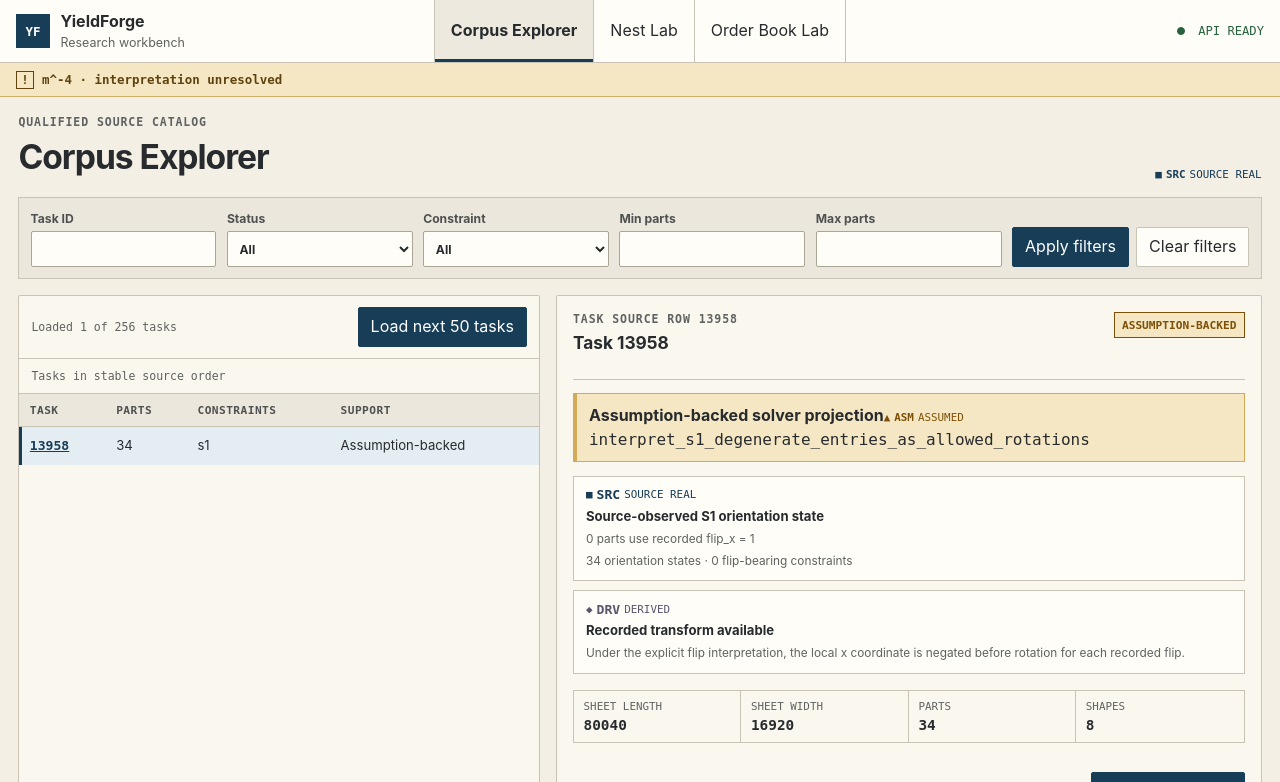
Test: research workbench › resets pagination for filters, forwards maximum parts, and clears filters
The image size is (1280, 782).
Expected: the text "Loaded 1 of 256 tasks" is shown, x1=31 y1=320 x2=177 y2=334
Select "View only (1)" in the dropdown labelled "Status": (320, 249) x1=227 y1=231 x2=413 y2=267
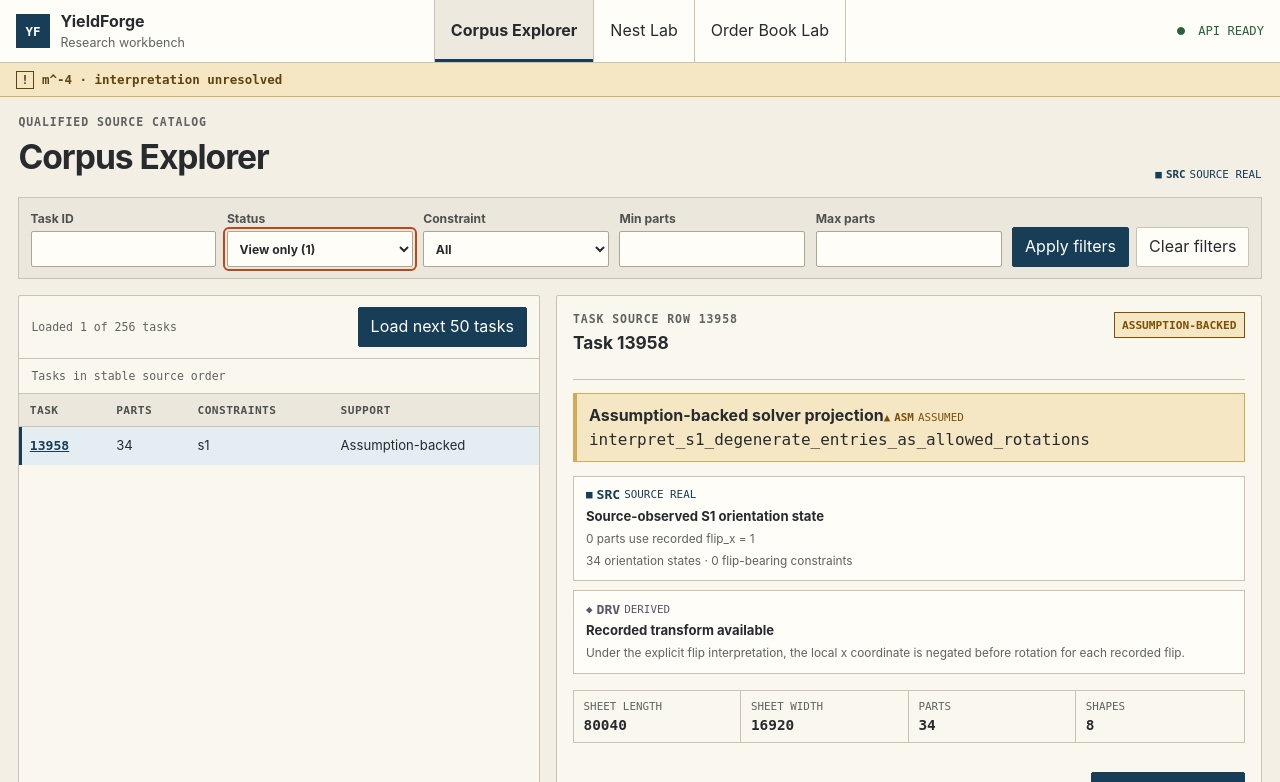
In the number field labelled "Min parts": (712, 249) x1=620 y1=231 x2=805 y2=267, type "10"
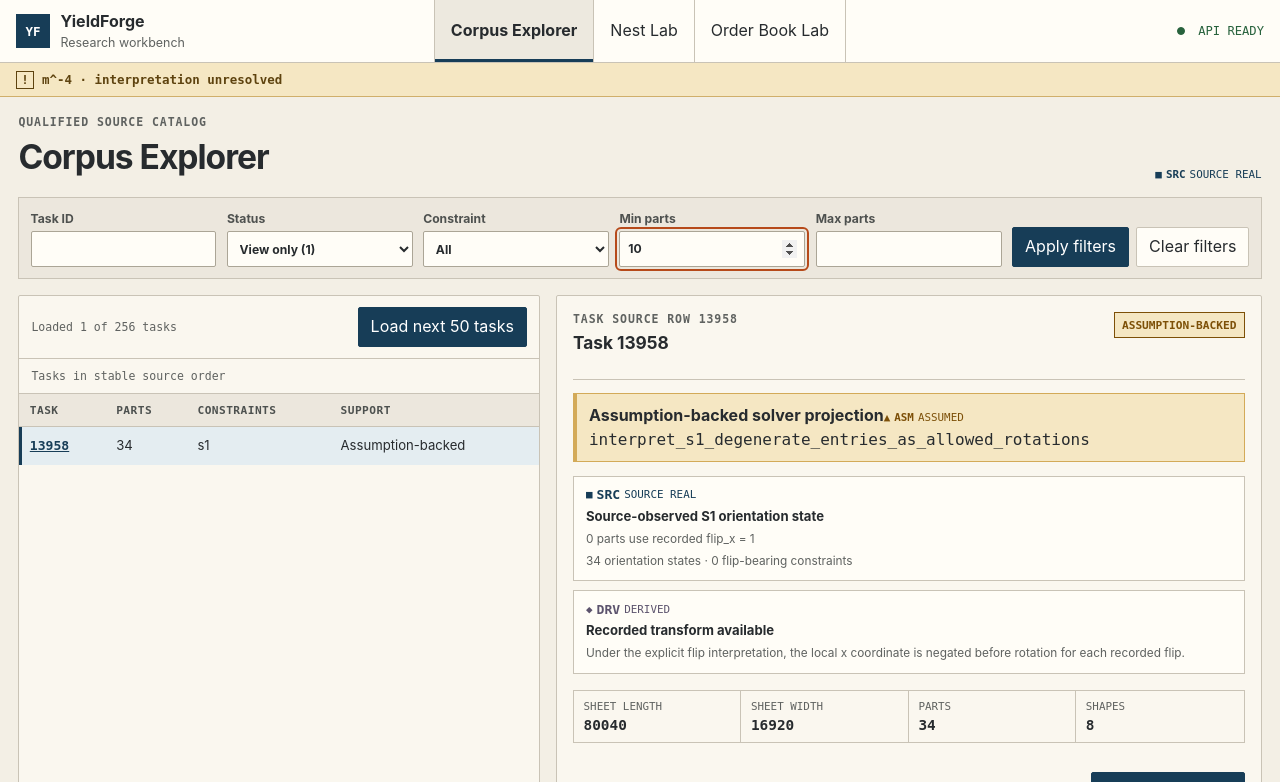
In the number field labelled "Max parts": (909, 249) x1=816 y1=231 x2=1002 y2=267, type "40"
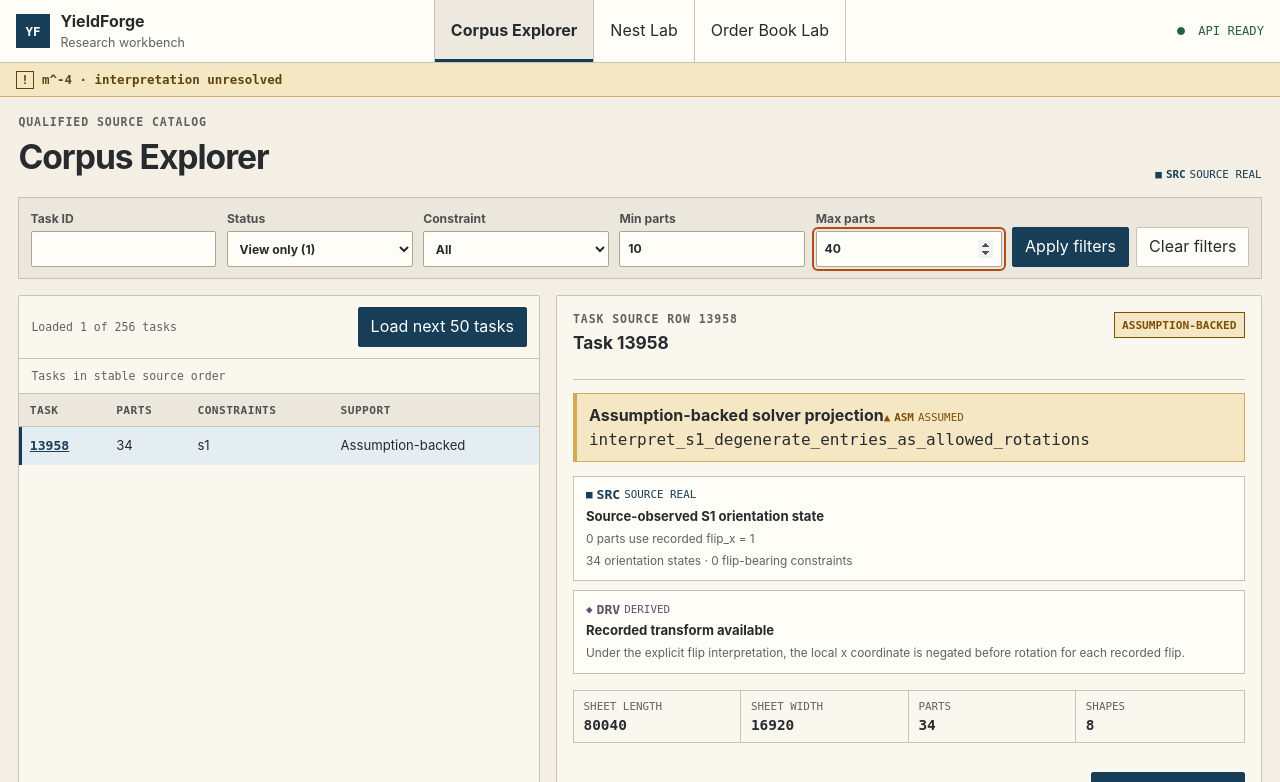
Click the button "Apply filters": click(1071, 247) x1=1012 y1=227 x2=1129 y2=267
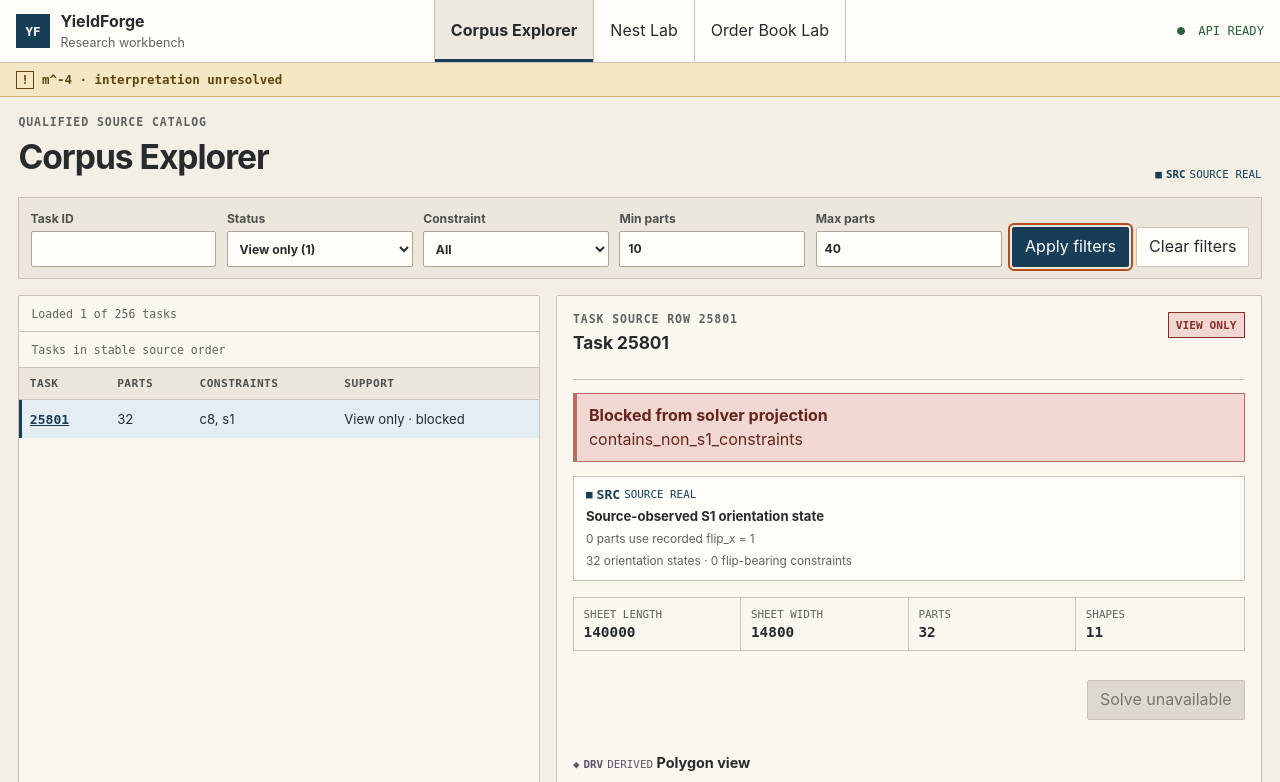
Now the button "Load next 50 tasks" is gone
Now the heading "Task 25801" is shown, box x1=573 y1=332 x2=669 y2=352
Click the button "Clear filters": click(1193, 247) x1=1136 y1=227 x2=1249 y2=267
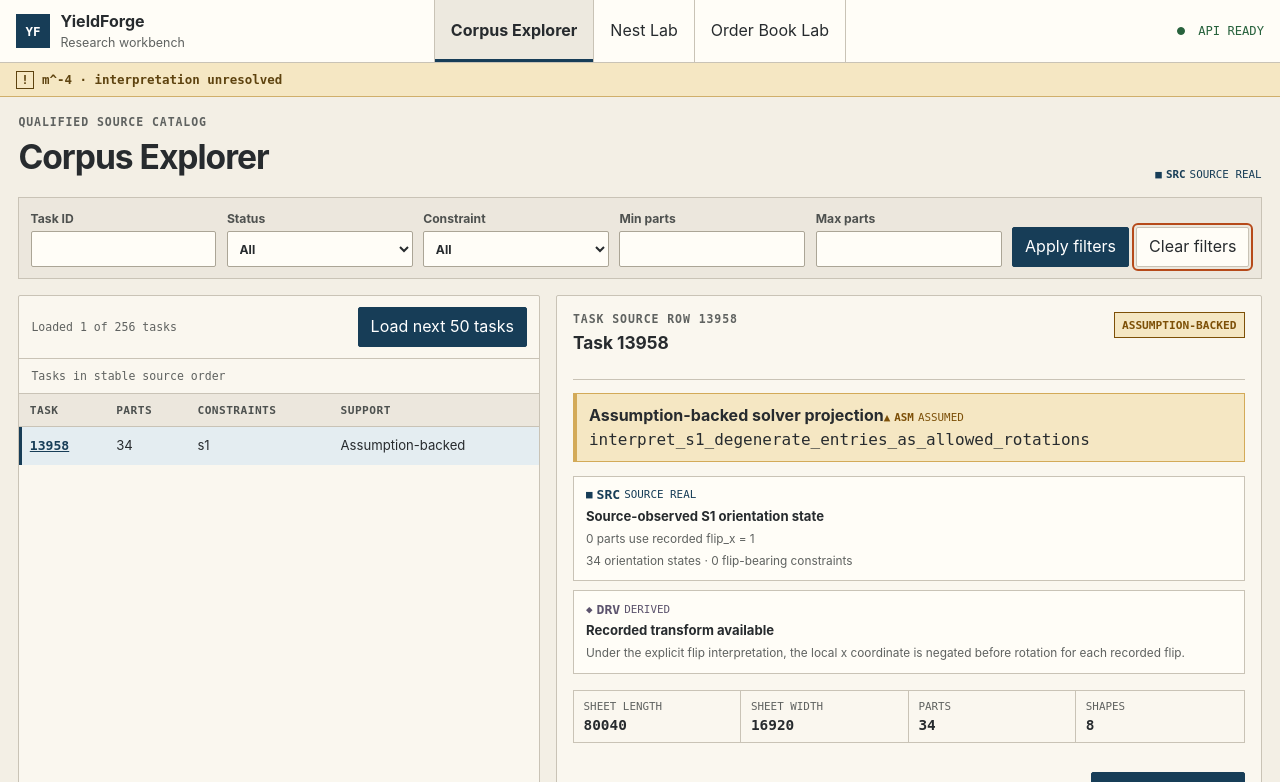
Now the number field labelled "Max parts" is not empty, box x1=816 y1=231 x2=1002 y2=267
Now the heading "Task 13958" is shown, box x1=573 y1=332 x2=669 y2=352
